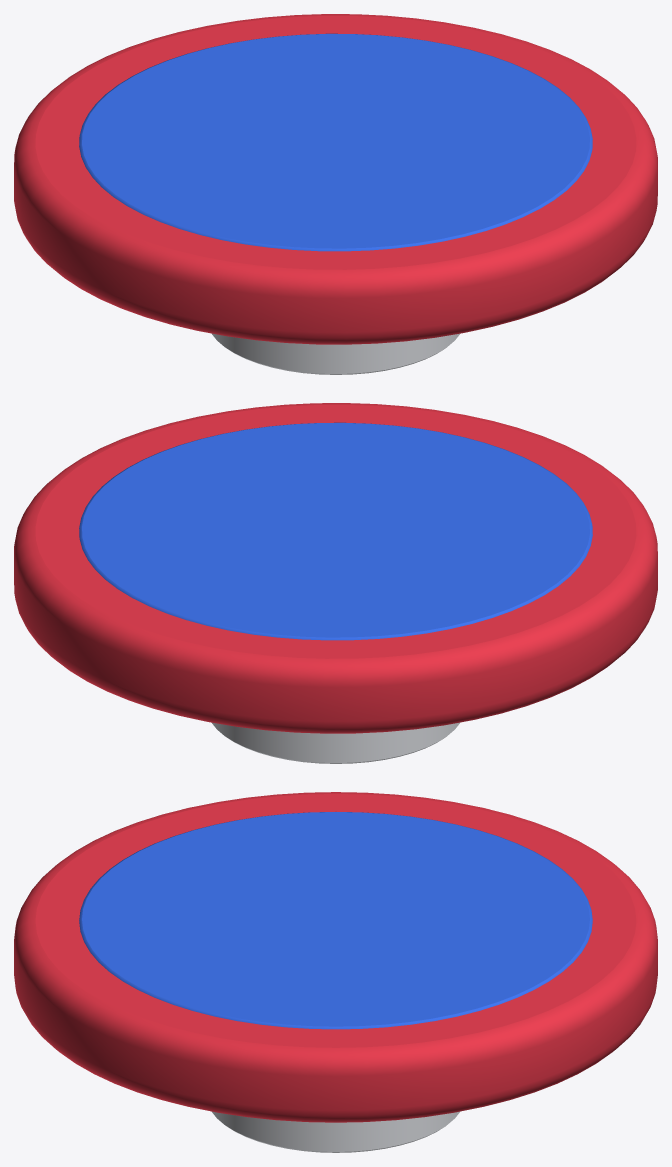
The model's file is SD_PadHead_R180.fbx.
3 renders of one model, top to bottom at view 1: azimuth 30°, elevation 25°; view 2: azimuth 150°, elevation 25°; view 3: azimuth 270°, elevation 25°, orthographic.
Visible parts, largest first — view 1: PadHead_R180; view 2: PadHead_R180; view 3: PadHead_R180.
Part boxes in pixels (left/top/right/bottom): PadHead_R180: left=14, top=14, right=657, bottom=374; PadHead_R180: left=14, top=403, right=657, bottom=763; PadHead_R180: left=14, top=792, right=657, bottom=1152.
Size of the model in its own units: 3.6 by 1.11 by 3.6.
